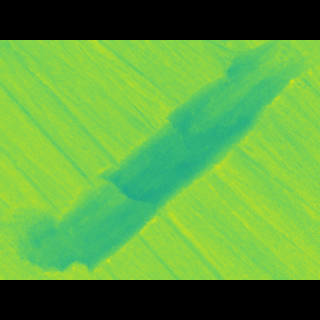Loch: (11, 69, 314, 246)
